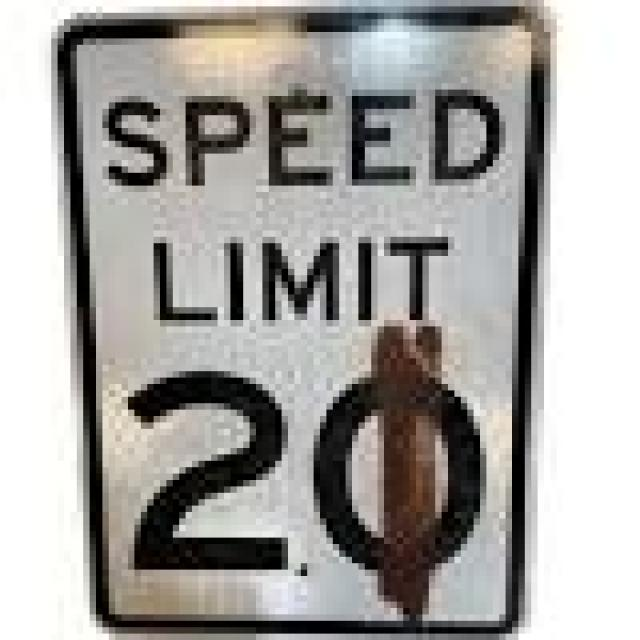speedLimit20: (61, 22, 528, 624)
